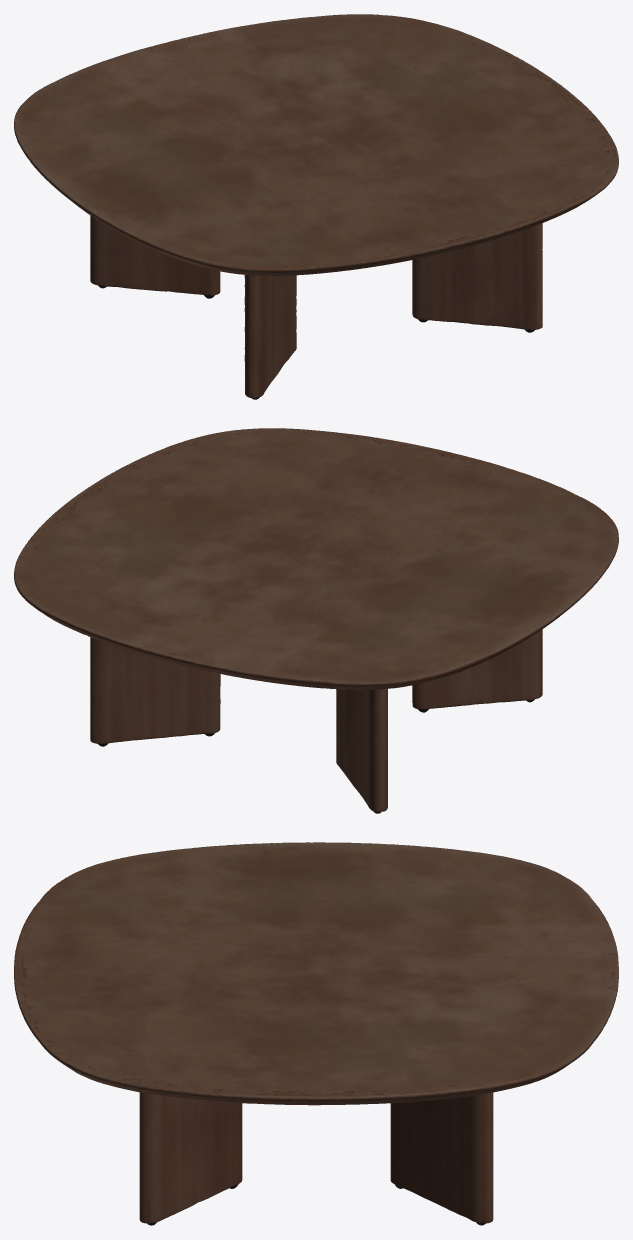
The model's file is unidentified_model_4hxzxu.glb.
The picture shows the model from 3 angles, top to bottom: view 1: azimuth 30°, elevation 25°; view 2: azimuth 150°, elevation 25°; view 3: azimuth 270°, elevation 25°; orthographic projection. The views are drawn at different scales.
Parts seen in each view (by area): view 1: world; view 2: world; view 3: world.
Boxes of the visible parts, x1,y1,x2,y2 form: world: [14, 14, 618, 399]; world: [14, 428, 618, 813]; world: [14, 842, 618, 1225].
Bounding box in the file's own units: 1 × 0.3327 × 1.
1 material, 1 textured.
